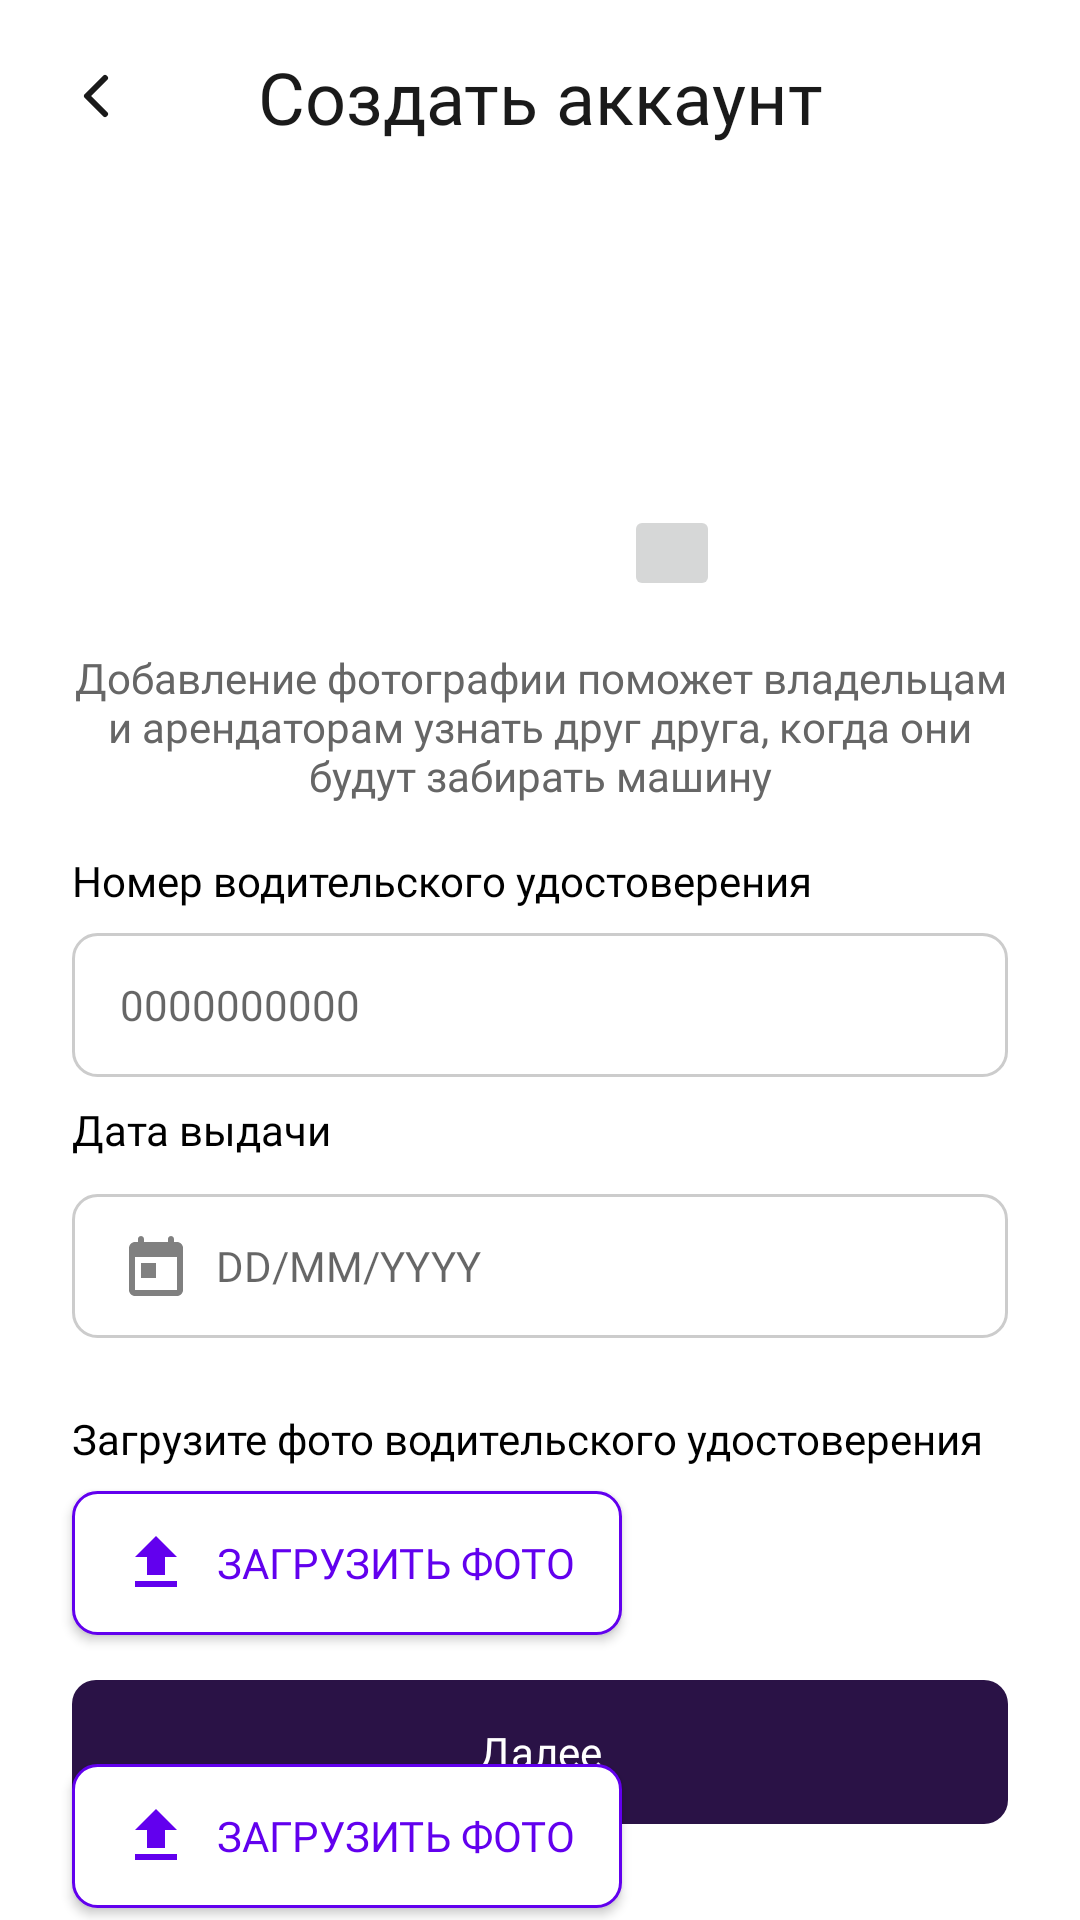

Icon bounding boxes for this 1080 × 1920 phone screenshot, format (x1, y1, x2, y2):
chevron left: (84, 75, 108, 117)
